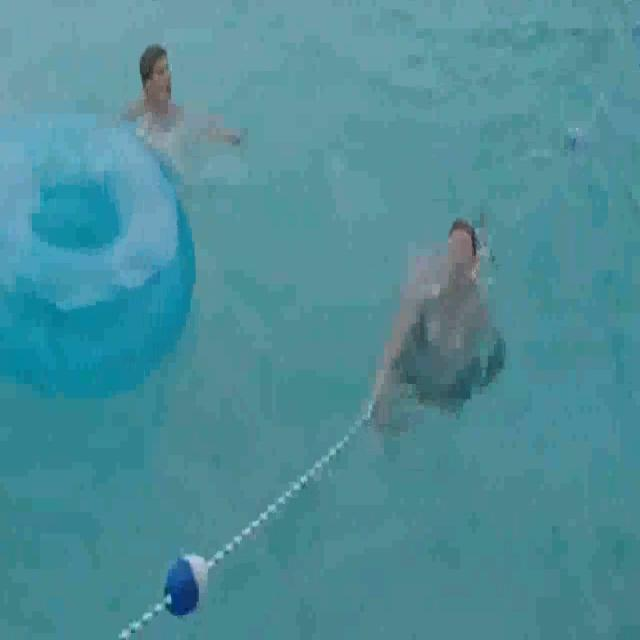Out of Water: (377, 210, 519, 422)
